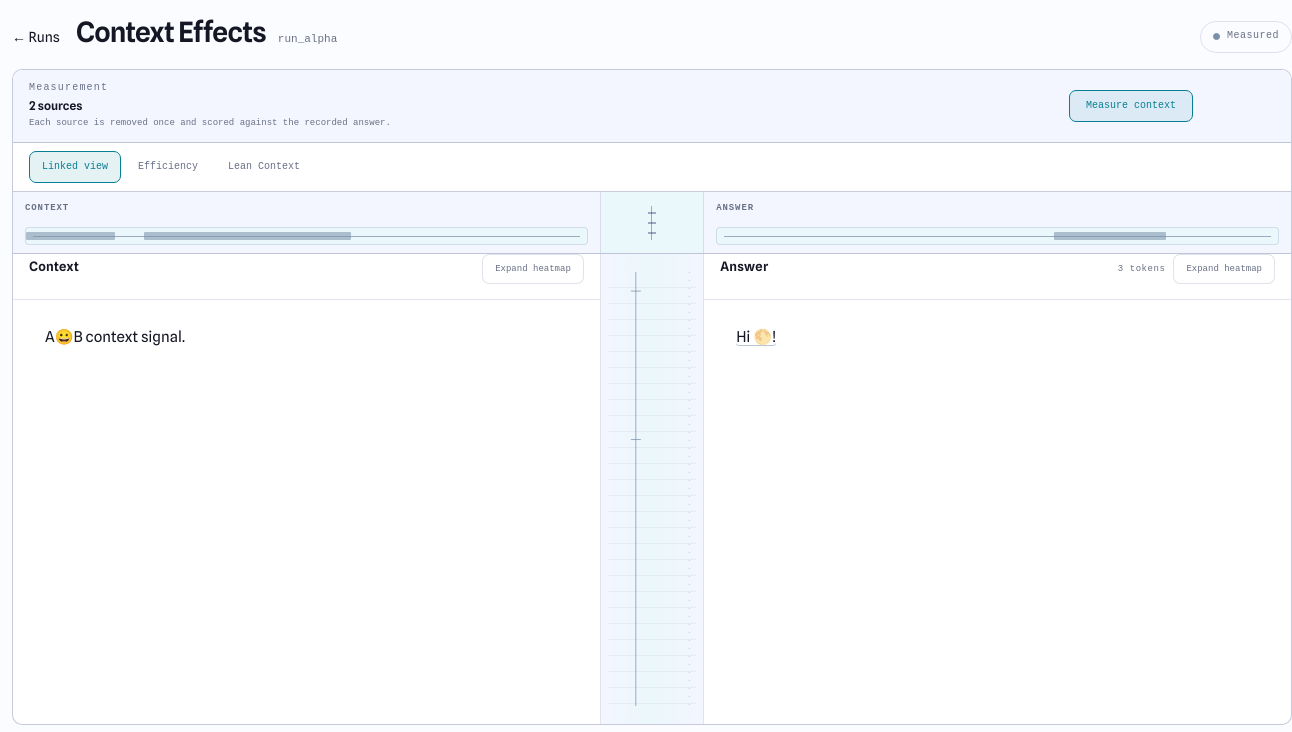
Test case: Inspect surface › shows honest indeterminate progress while a Lean Context model batch is running
This screenshot has width=1292, height=732.
Click the button "Lean Context" at (264, 167), box top-left (215, 151), bottom-right (313, 183)
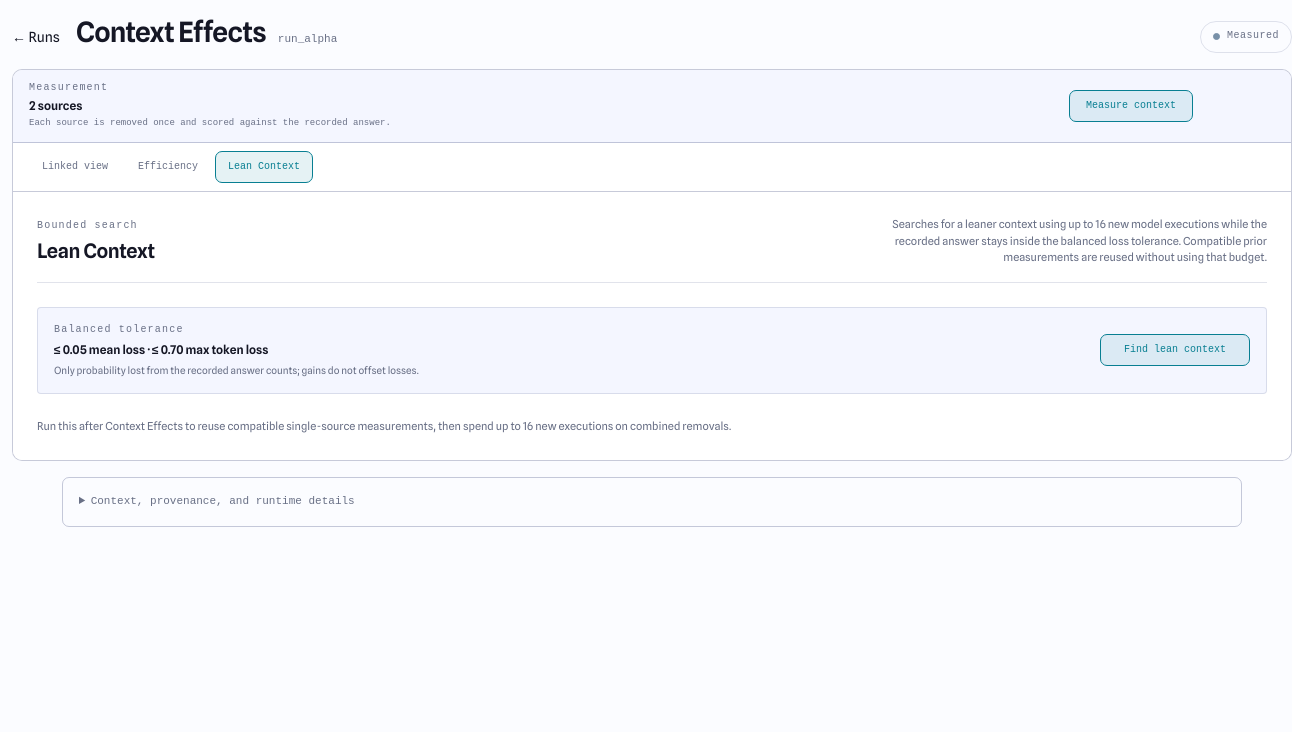
Click the button "Find lean context" at (1175, 350), box top-left (1100, 334), bottom-right (1250, 366)
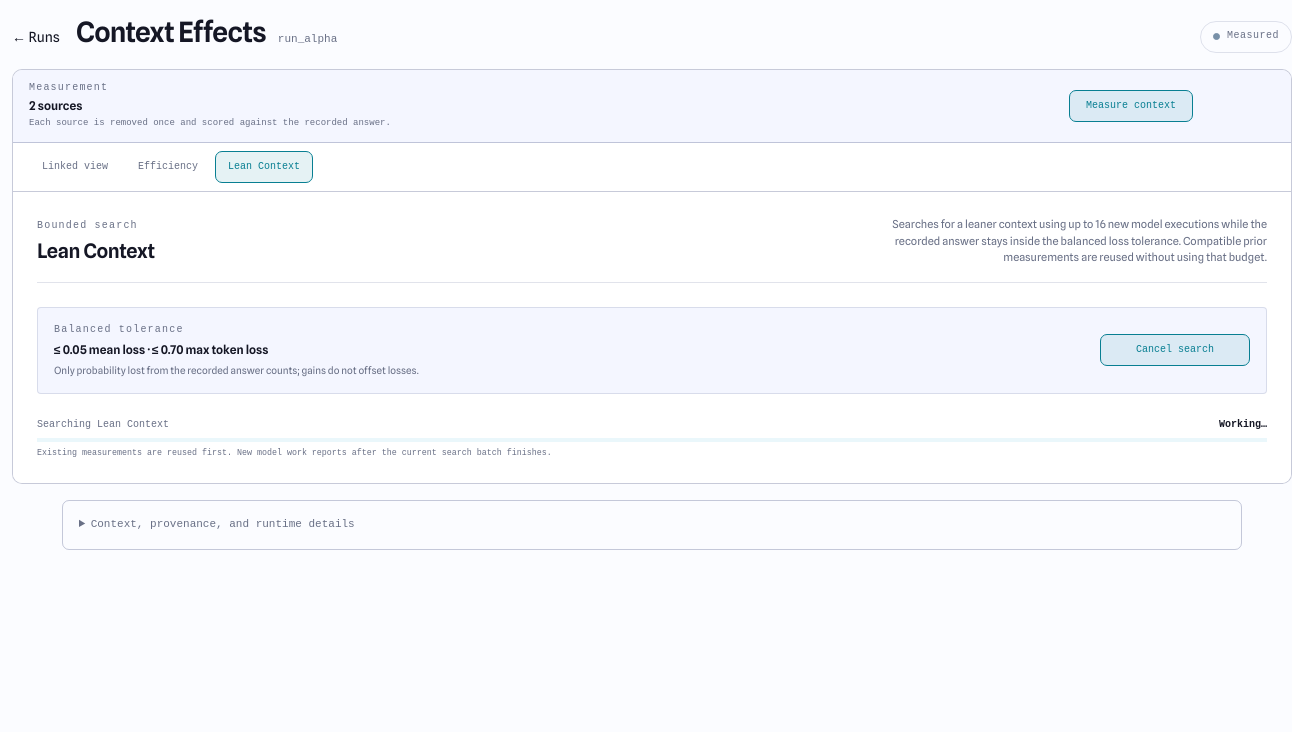
Now the text "Working…" is shown, box top-left (1219, 418), bottom-right (1267, 433)
Now the text "Existing measurements are reused first. New model work reports after the current search batch finishes." is shown, box top-left (37, 448), bottom-right (552, 458)
